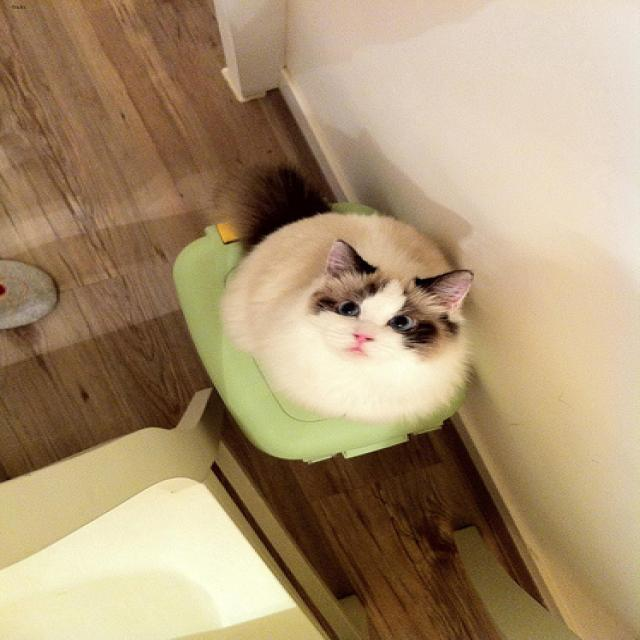Ragdoll: (279, 238, 485, 390)
